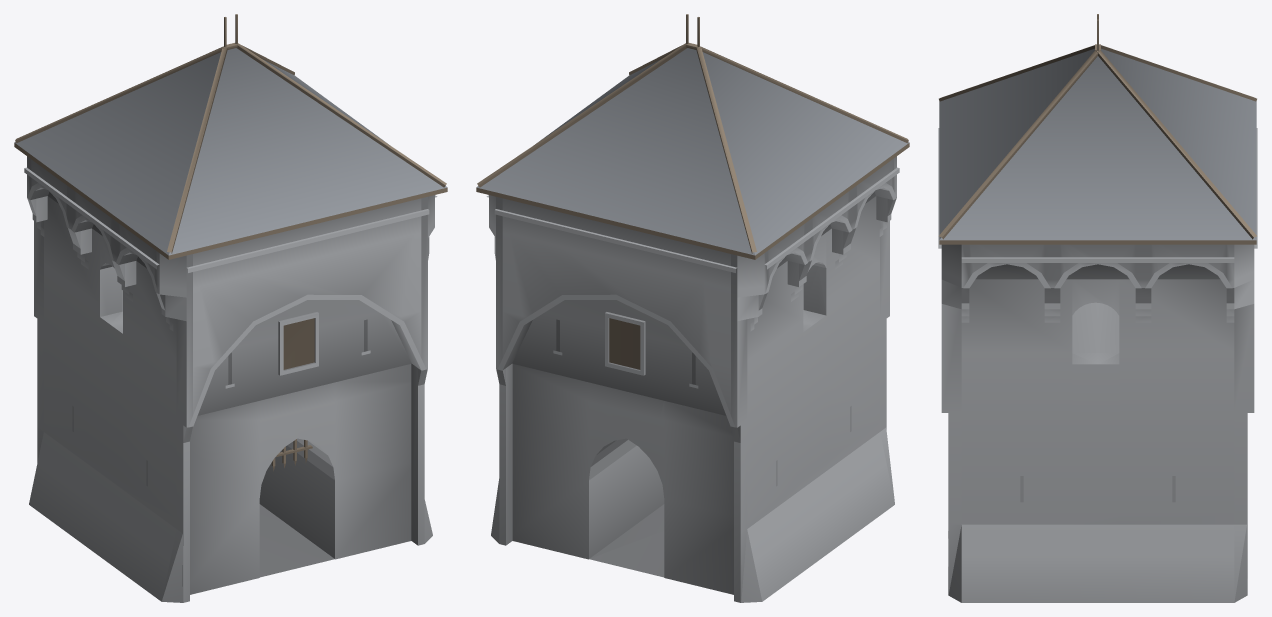
File: sg_seagate.glb
3 renders of one model, left to right at view 1: azimuth 30°, elevation 25°; view 2: azimuth 150°, elevation 25°; view 3: azimuth 270°, elevation 25°, orthographic. The views are drawn at different scales.
Visible parts, largest first — view 1: sg_seagate_SG_Stone, sg_seagate_SG_Slate, sg_seagate_SG_Joinery; view 2: sg_seagate_SG_Stone, sg_seagate_SG_Slate, sg_seagate_SG_Joinery; view 3: sg_seagate_SG_Stone, sg_seagate_SG_Slate, sg_seagate_SG_Joinery.
Part boxes in pixels (left/top/right/bottom): sg_seagate_SG_Stone: left=24, top=156, right=437, bottom=602; sg_seagate_SG_Slate: left=14, top=48, right=447, bottom=255; sg_seagate_SG_Joinery: left=14, top=14, right=447, bottom=471; sg_seagate_SG_Stone: left=486, top=156, right=899, bottom=602; sg_seagate_SG_Slate: left=476, top=48, right=909, bottom=255; sg_seagate_SG_Joinery: left=476, top=14, right=909, bottom=369; sg_seagate_SG_Stone: left=938, top=128, right=1257, bottom=602; sg_seagate_SG_Slate: left=939, top=48, right=1256, bottom=240; sg_seagate_SG_Joinery: left=939, top=14, right=1256, bottom=244.
Size of the model in its own units: 14.88 by 25.56 by 14.28.
